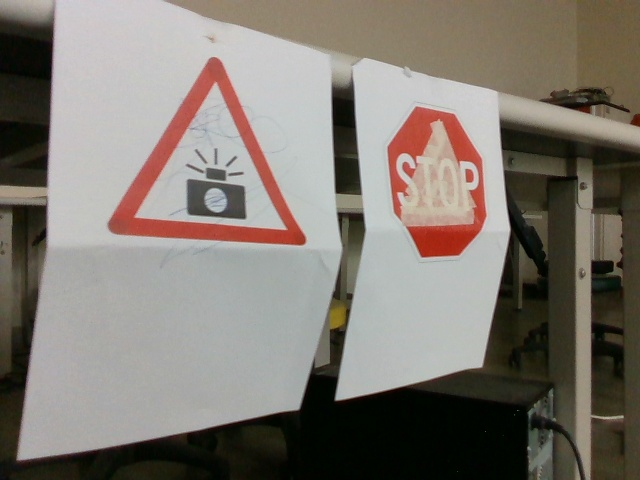camera: (103, 57, 306, 251)
stop: (381, 101, 488, 263)
